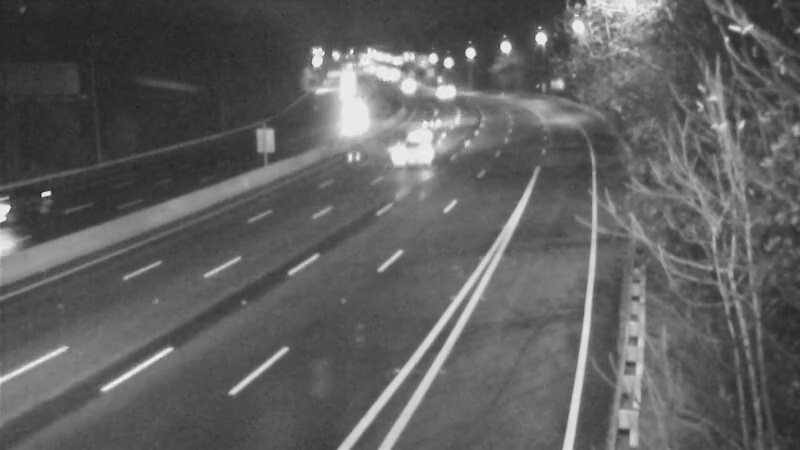vehicle: (1, 165, 68, 245), (383, 61, 433, 111), (417, 66, 467, 116), (406, 97, 456, 147), (387, 117, 437, 167), (332, 95, 382, 145)
